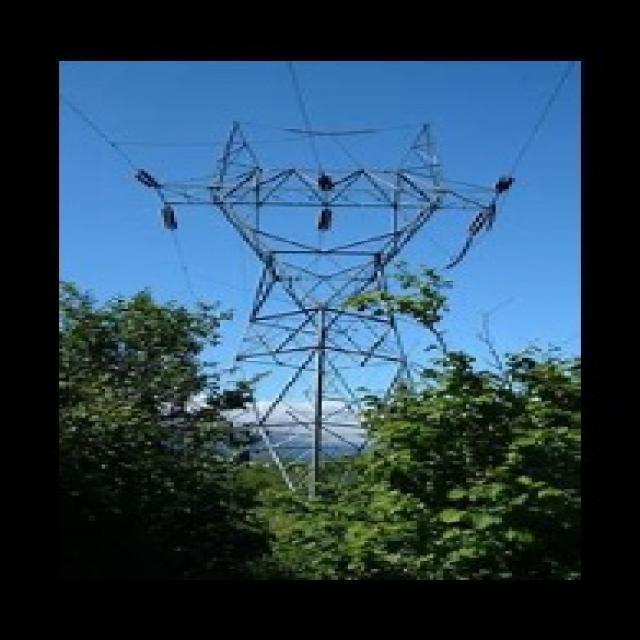utility poles: (338, 267, 512, 434), (150, 288, 302, 449)
